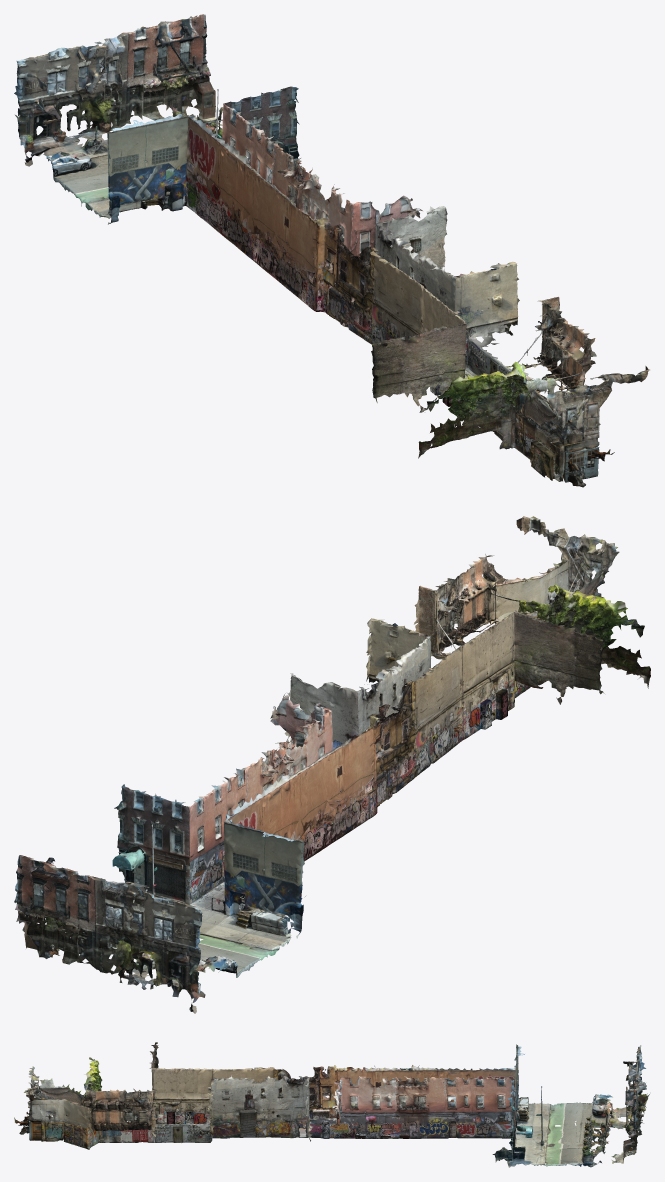
The model's file is freeman_alley.glb.
3 views of the same model, one above another, from view 1: azimuth 30°, elevation 25°; view 2: azimuth 150°, elevation 25°; view 3: azimuth 270°, elevation 25° (orthographic). The views are drawn at different scales.
Parts seen in each view (by area): view 1: VISUAL_ALLEY_MESH; view 2: VISUAL_ALLEY_MESH; view 3: VISUAL_ALLEY_MESH.
Part boxes in pixels (x1,y1,x2,y2): VISUAL_ALLEY_MESH: (14,14,649,487); VISUAL_ALLEY_MESH: (14,516,650,1013); VISUAL_ALLEY_MESH: (14,1042,649,1167).
Size of what is drawn, in the model's own units: 22.51 by 11.53 by 93.48.
Materials: 3 (3 with a texture image).
